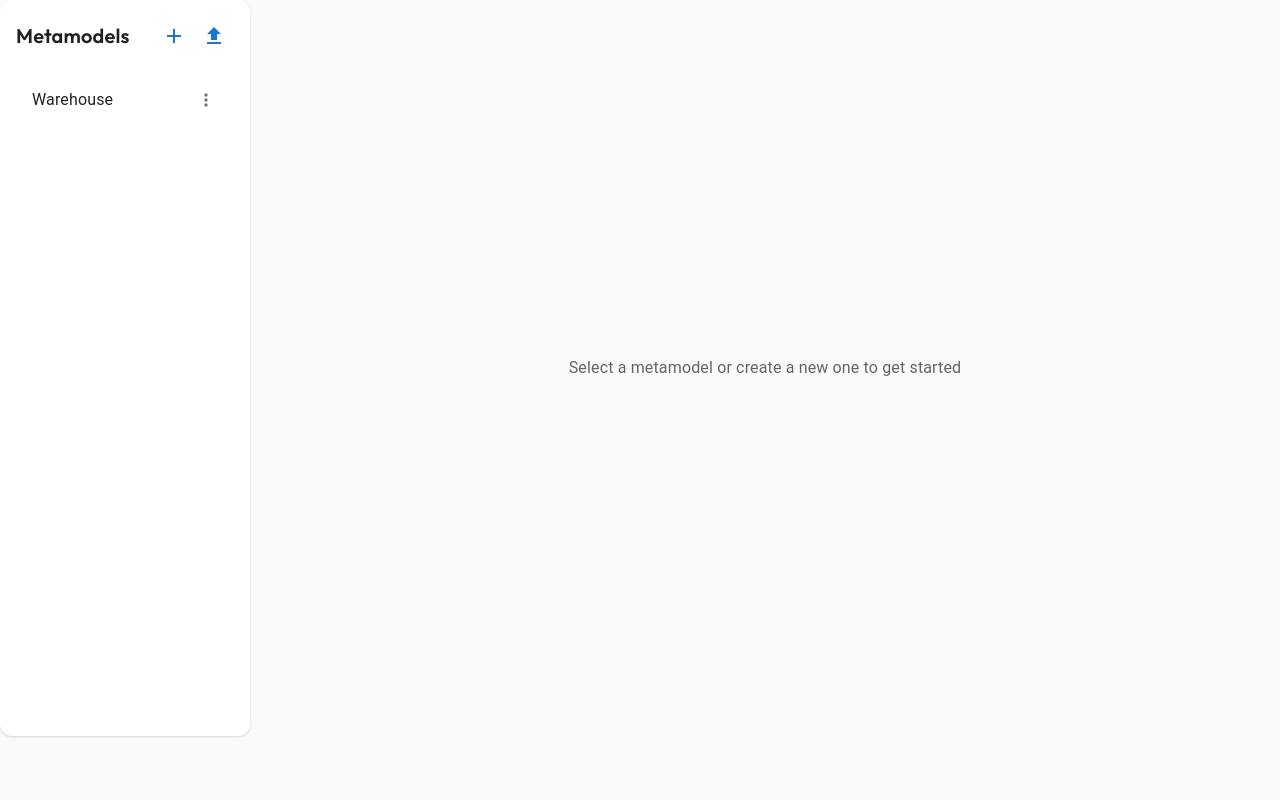
MetamodelManager delete › removes the row when the server confirms the delete
Click the button named "Actions for Warehouse" at x=206, y=100, box [191,85,221,115]
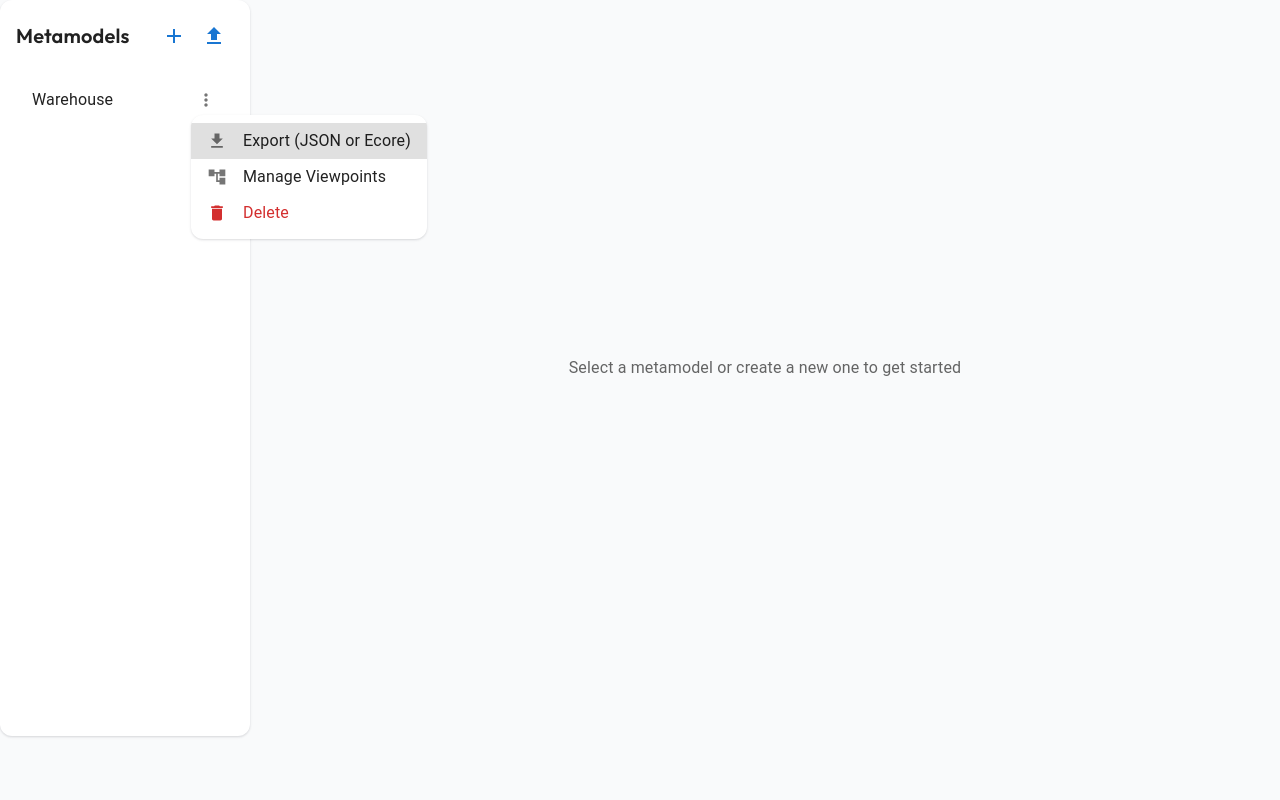
Click the menu item "Delete" at x=248, y=213, box [207,203,289,223]
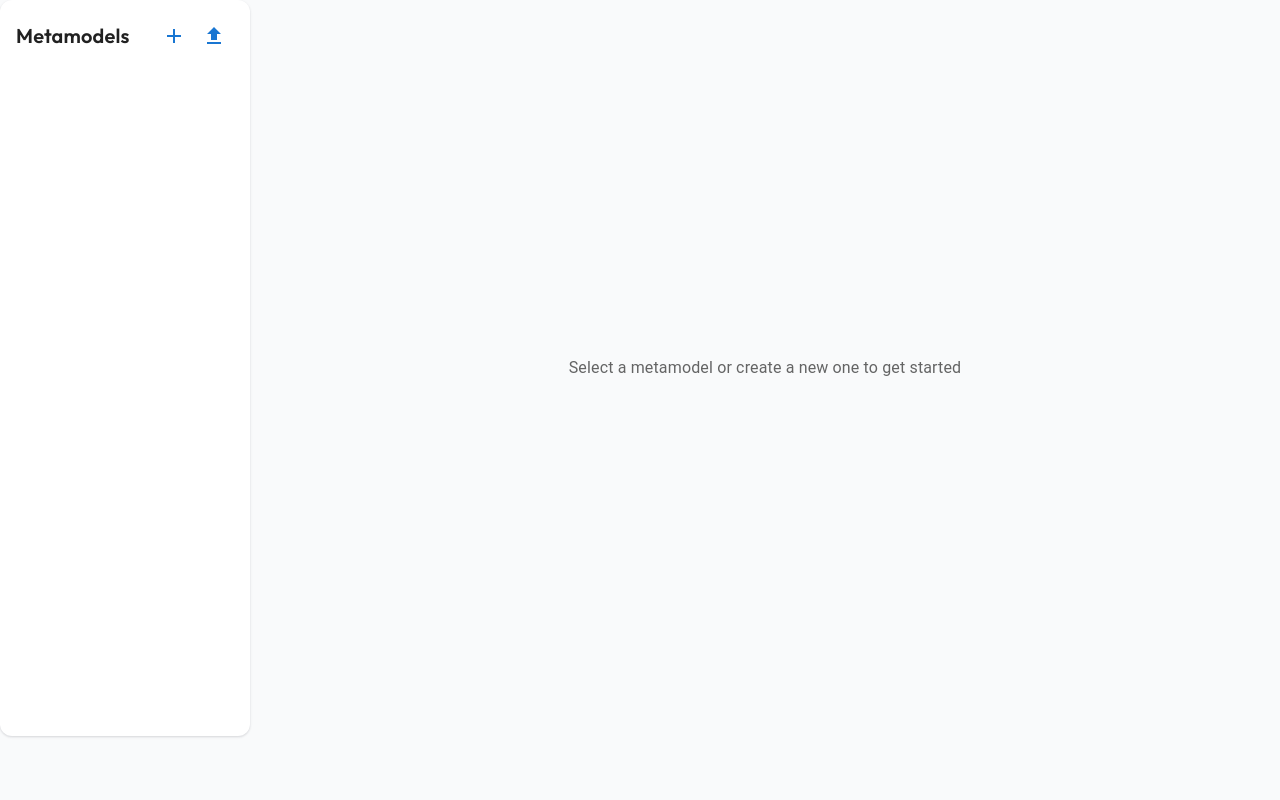
Expected: the button "Warehouse" is gone
